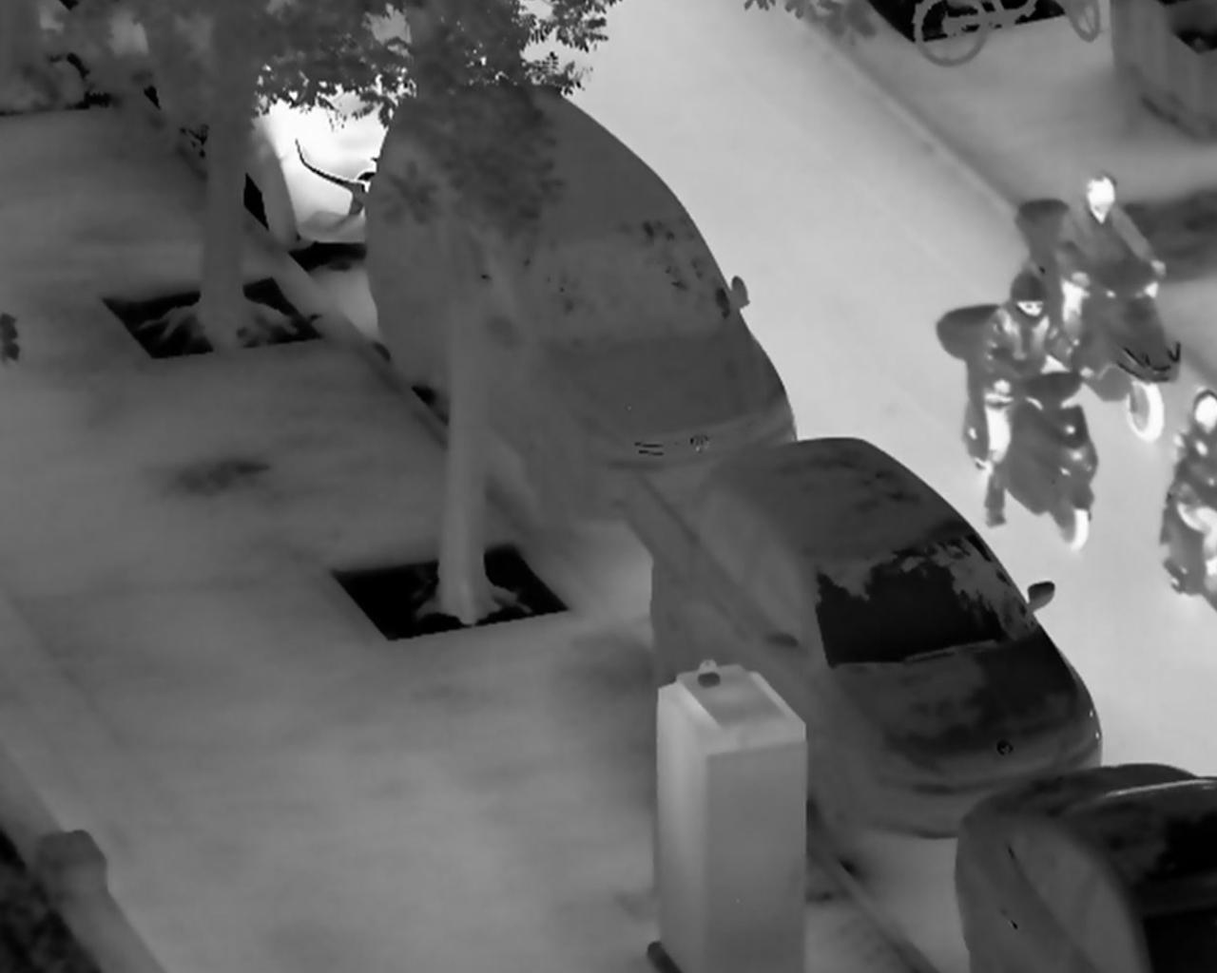person: (976, 268, 1093, 532), (1050, 172, 1169, 368), (1171, 386, 1217, 591)
